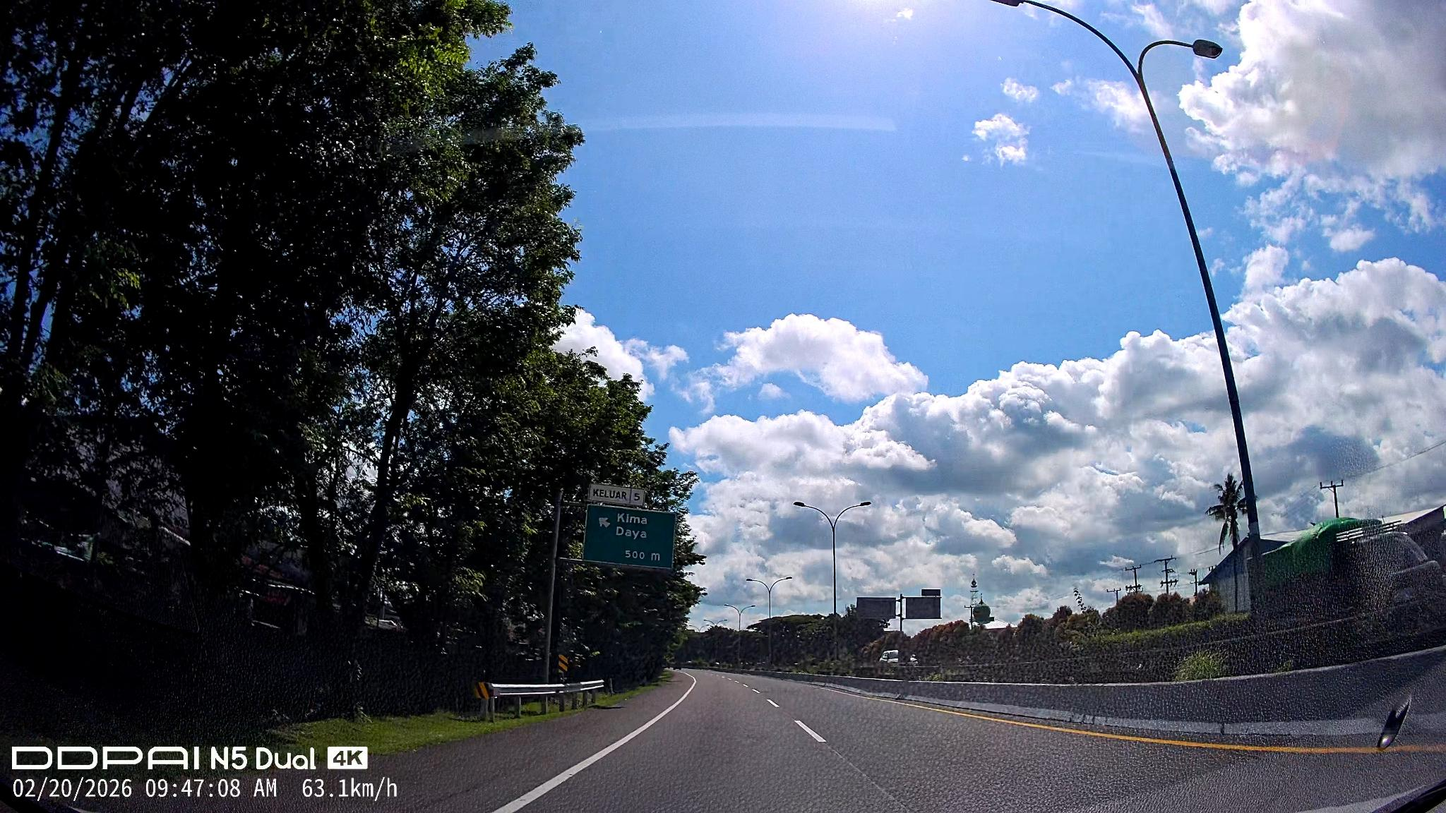rambu_teks: (582, 502, 677, 573)
